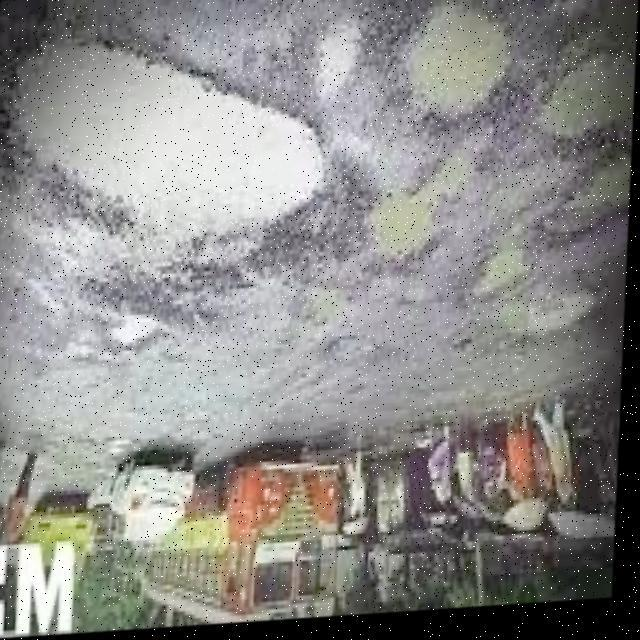pothole: (2, 2, 327, 273), (382, 0, 522, 147), (471, 241, 602, 358), (361, 155, 457, 281), (537, 52, 637, 156), (544, 153, 634, 244), (298, 286, 352, 354), (107, 310, 170, 356)
